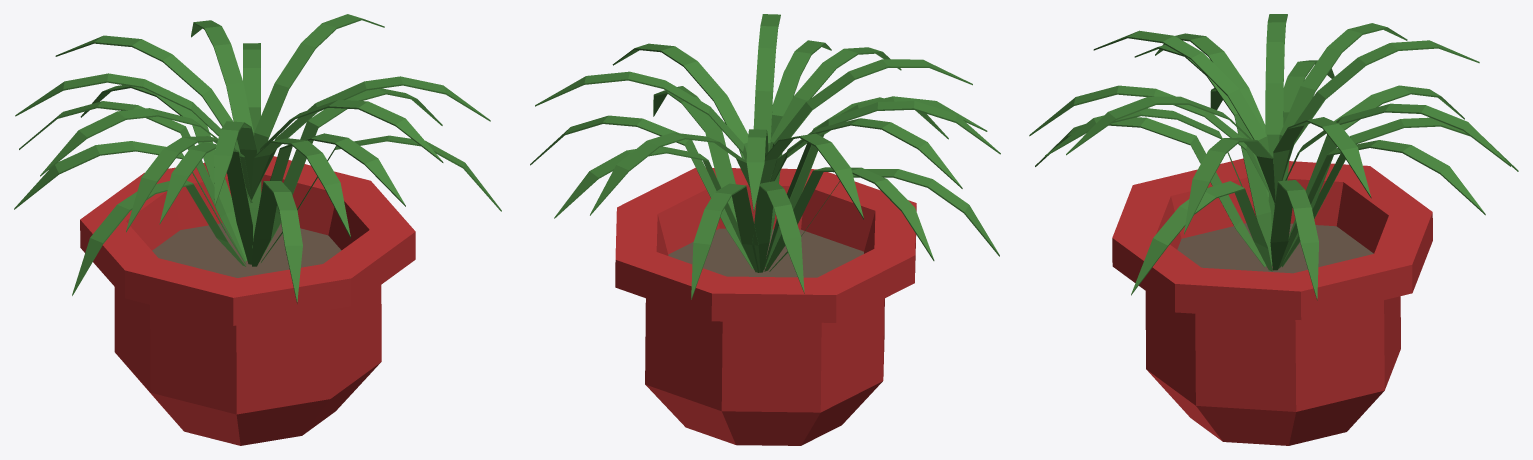
Rendered from Flower_29.fbx.
The picture shows the model from 3 angles, left to right: view 1: azimuth 30°, elevation 25°; view 2: azimuth 150°, elevation 25°; view 3: azimuth 270°, elevation 25°; orthographic projection. The views are drawn at different scales.
Parts seen in each view (by area): view 1: Flower_29; view 2: Flower_29; view 3: Flower_29.
Part boxes in pixels (x1,y1,x2,y2): Flower_29: [14, 14, 501, 445]; Flower_29: [530, 14, 1000, 445]; Flower_29: [1029, 14, 1518, 445].
Size of the model in its own units: 57.08 by 56.43 by 43.34.
